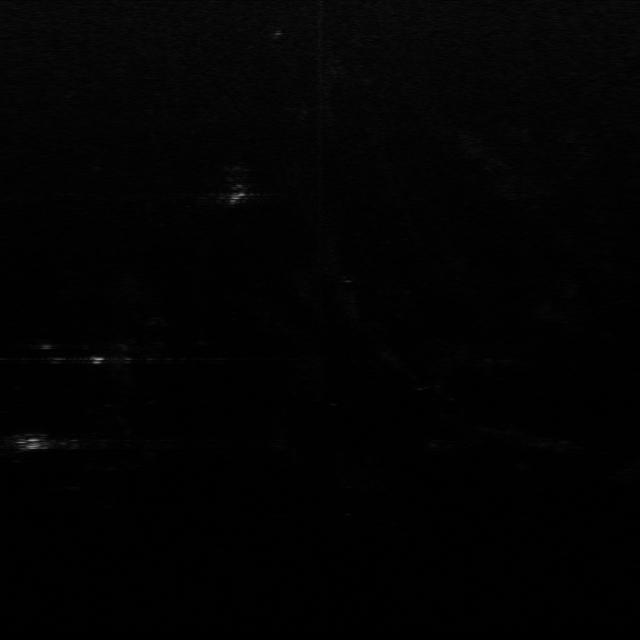rov: (10, 432, 54, 455)
